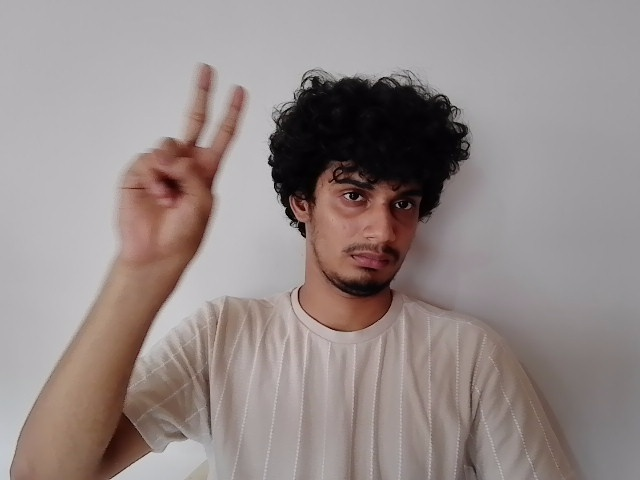travel: (111, 53, 253, 269)
